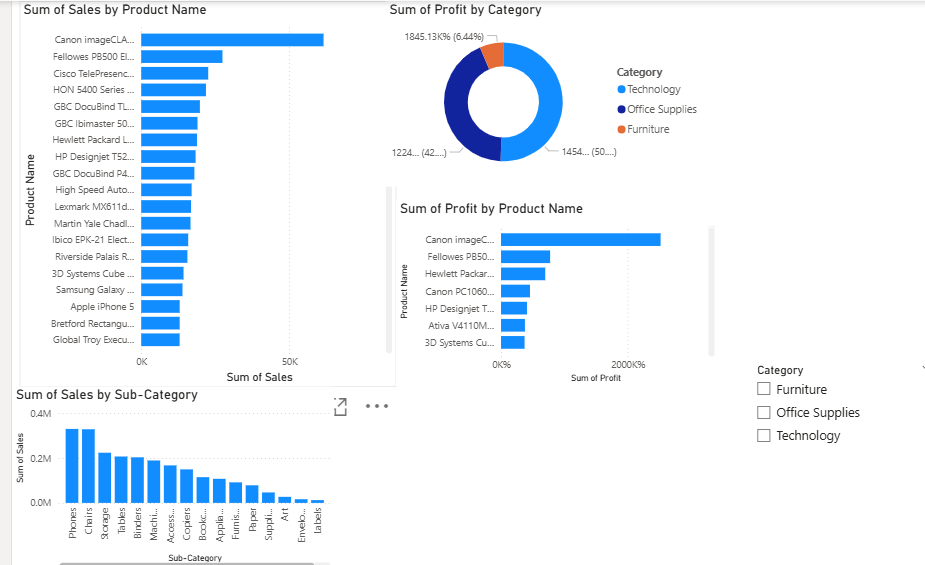

What the dashboard file says about the page in this screenshot:
{"tool":"powerbi","page":{"name":"Product Performance Analysis","canvas":[1280,720],"ordinal":1},"visuals":[{"type":"clusteredBarChart","fields":{"Category":["Sample - Superstore.Product Name"],"Y":["Sum(Sample - Superstore.Sales)"]},"box":[9.4,0,474.3,485.7],"z":0},{"type":"clusteredColumnChart","fields":{"Category":["Sample - Superstore.Sub-Category"],"Y":["Sum(Sample - Superstore.Sales)"]},"box":[0,485.7,406.3,234.3],"z":1000},{"type":"donutChart","fields":{"Category":["Sample - Superstore.Category"],"Y":["Sum(Sample - Superstore.Profit)"]},"box":[470.6,0,406.3,234.3],"z":2000},{"type":"clusteredBarChart","fields":{"Category":["Sample - Superstore.Product Name"],"Y":["Sum(Sample - Superstore.Profit)"]},"box":[483.8,251.3,406.3,234.3],"z":3000},{"type":"slicer","fields":{"Values":["Sample - Superstore.Category"]},"box":[926,451.7,245.7,230.6],"z":4000}]}

Visuals, with their boxes on the page's 1280x720 design canvas (x1, y1, x2, y2). These are canvas units, not pixel positions in the 925x565 screenshot, which may show the page scaled, cropped or inside an application window:
clusteredBarChart - Sample - Superstore.Product Name x Sum(Sample - Superstore.Sales): 9,0,484,486
clusteredColumnChart - Sample - Superstore.Sub-Category x Sum(Sample - Superstore.Sales): 0,486,406,720
donutChart - Sample - Superstore.Category x Sum(Sample - Superstore.Profit): 471,0,877,234
clusteredBarChart - Sample - Superstore.Product Name x Sum(Sample - Superstore.Profit): 484,251,890,486
slicer - Sample - Superstore.Category: 926,452,1172,682
